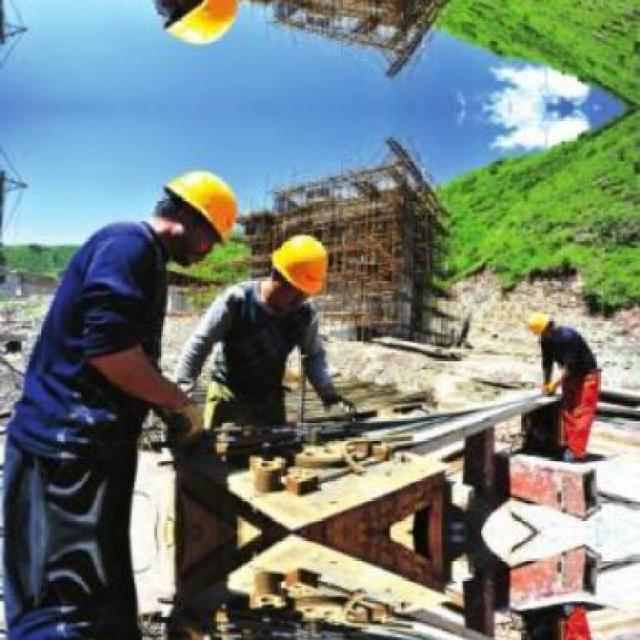helmet: (148, 157, 252, 261), (148, 0, 254, 57), (264, 228, 333, 298), (520, 307, 554, 338)
